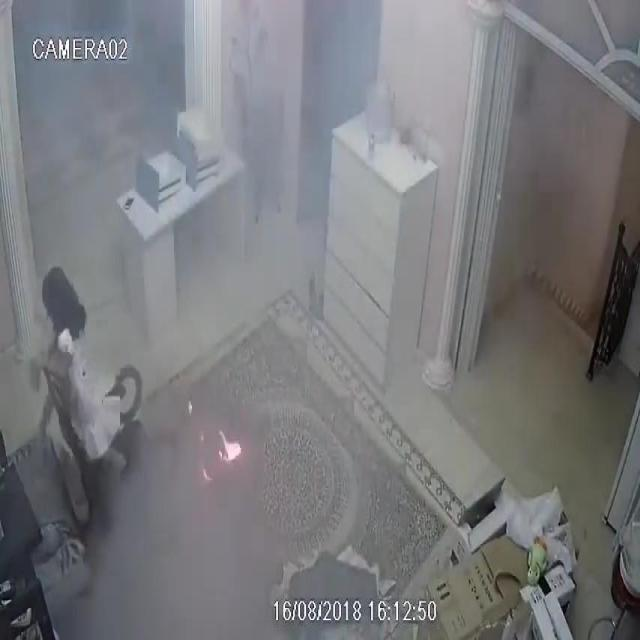fire: (219, 430, 241, 462)
